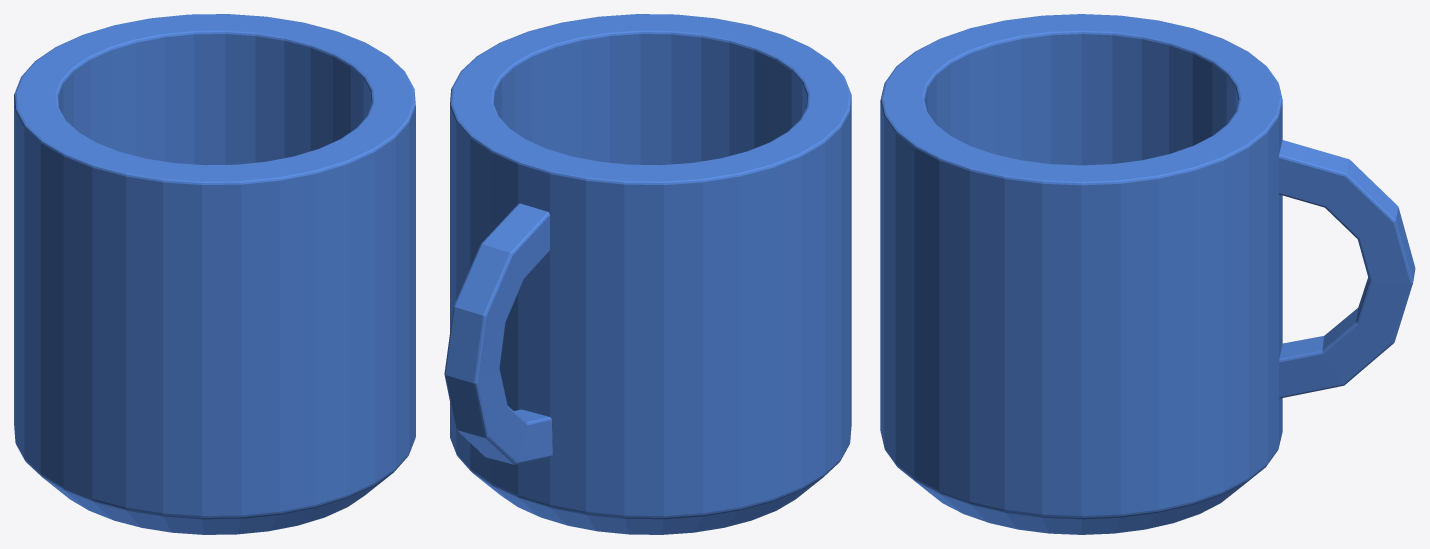
The model's file is coffee mug.fbx.
3 renders of one model, left to right at view 1: azimuth 30°, elevation 25°; view 2: azimuth 150°, elevation 25°; view 3: azimuth 270°, elevation 25°, orthographic.
Visible parts, largest first — view 1: Cylinder; view 2: Cylinder; view 3: Cylinder.
Part boxes in pixels (bbox=[...]): Cylinder: bbox=[14, 14, 415, 534]; Cylinder: bbox=[444, 14, 851, 534]; Cylinder: bbox=[880, 14, 1415, 534].
Bounding box in the file's own units: 15.37 × 15.49 × 20.44.
